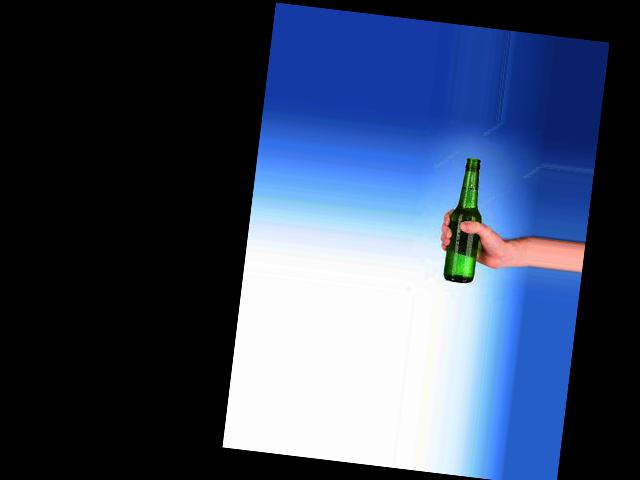beer: (443, 156, 487, 284)
